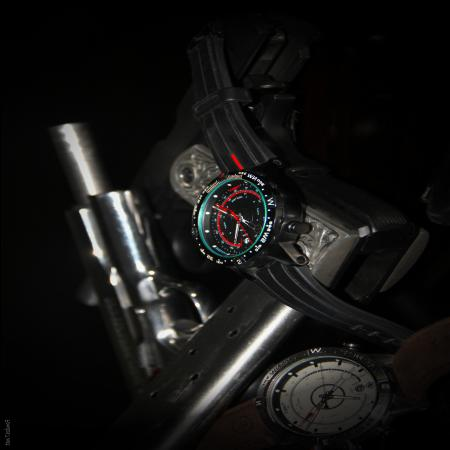Pistol: (71, 11, 432, 310), (40, 123, 285, 448)
